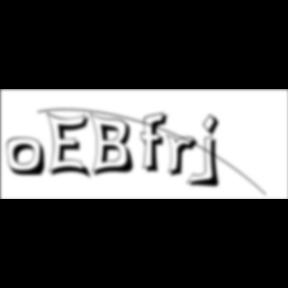B: (90, 111, 140, 179)
E: (46, 110, 96, 182)
f: (140, 111, 173, 175)
j: (200, 113, 226, 191)
o: (7, 137, 49, 179)
r: (167, 134, 205, 180)
